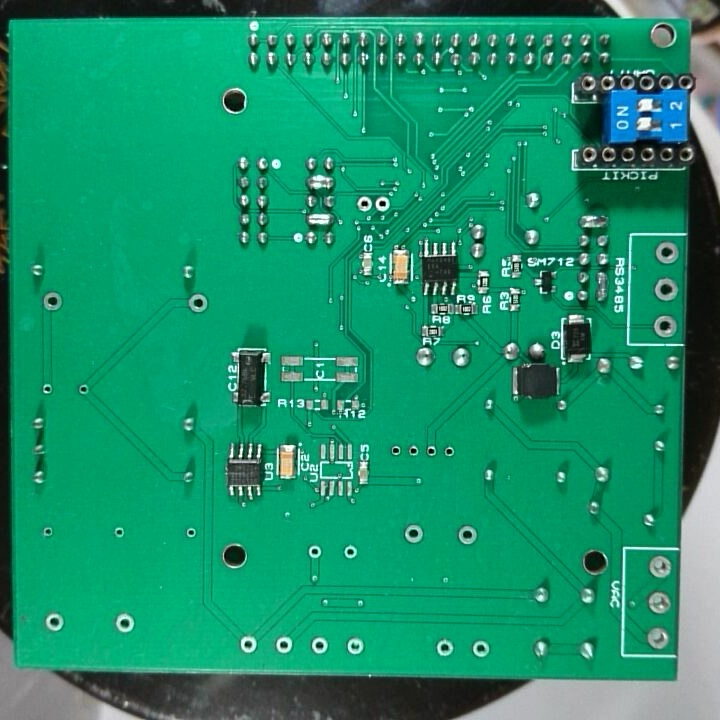F: (645, 589, 672, 617), (654, 239, 680, 267), (651, 313, 678, 339), (654, 275, 680, 302), (644, 626, 672, 650), (645, 555, 671, 580), (39, 289, 65, 313), (456, 522, 479, 548), (185, 292, 209, 315), (237, 632, 261, 655), (402, 523, 425, 546), (44, 610, 65, 635), (114, 610, 135, 634), (471, 638, 493, 660), (309, 634, 330, 657), (345, 634, 365, 658), (274, 634, 294, 656), (435, 638, 455, 658), (355, 193, 374, 214), (342, 542, 360, 563), (405, 441, 422, 461), (305, 543, 324, 560), (182, 524, 199, 542), (374, 194, 391, 212), (111, 523, 127, 542), (388, 440, 403, 460), (39, 381, 56, 398), (424, 442, 439, 460), (442, 444, 457, 461), (40, 523, 54, 541), (76, 382, 91, 398)
P: (305, 172, 338, 193), (304, 209, 336, 230), (577, 212, 610, 231), (594, 268, 610, 303)
